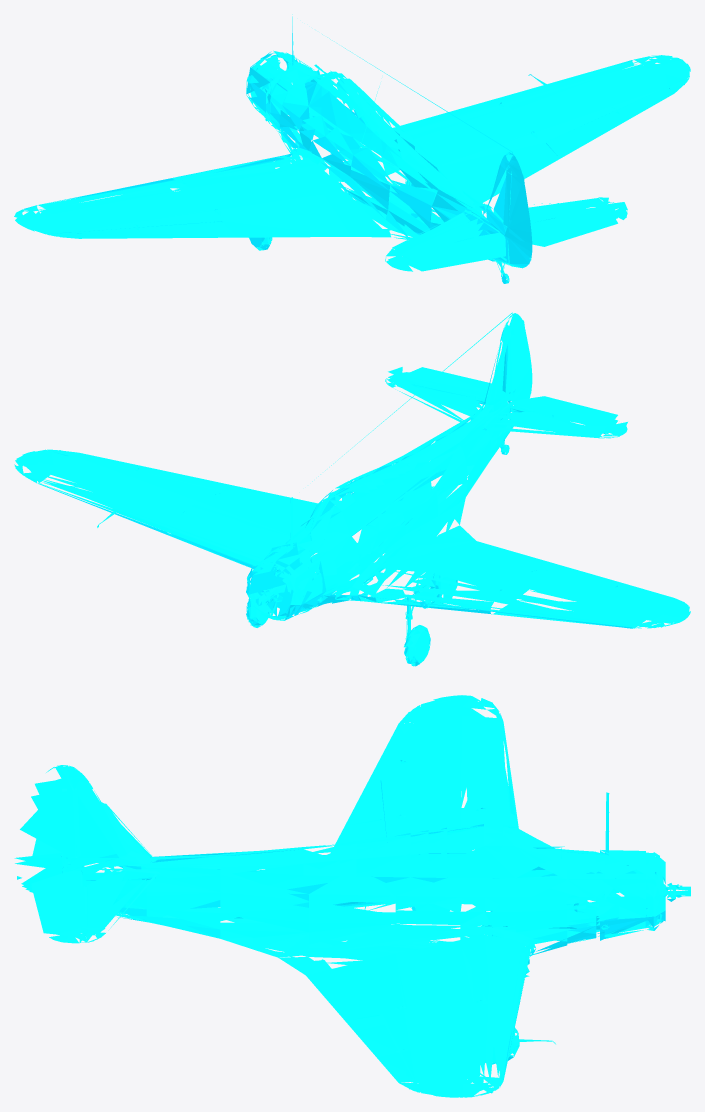
The model's file is PAAB001.glb.
3 views of the same model, one above another, from view 1: azimuth 30°, elevation 25°; view 2: azimuth 150°, elevation 25°; view 3: azimuth 270°, elevation 25° (orthographic). The views are drawn at different scales.
Parts seen in each view (by area): view 1: misc; view 2: misc; view 3: misc.
Part boxes in pixels (box(x1,y1,x2,y2)): misc: box(14, 14, 690, 283); misc: box(14, 312, 690, 666); misc: box(14, 695, 690, 1097).
Size of the model in its own units: 1.02 by 0.2994 by 0.7224.
